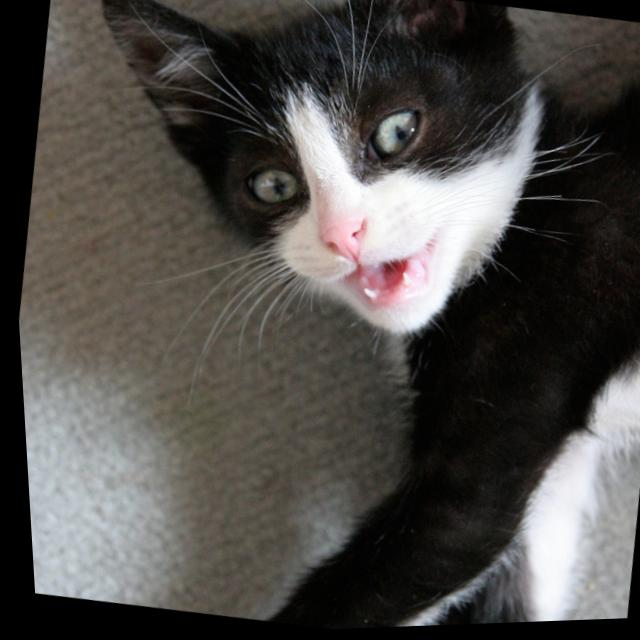animals: (71, 0, 508, 284)
